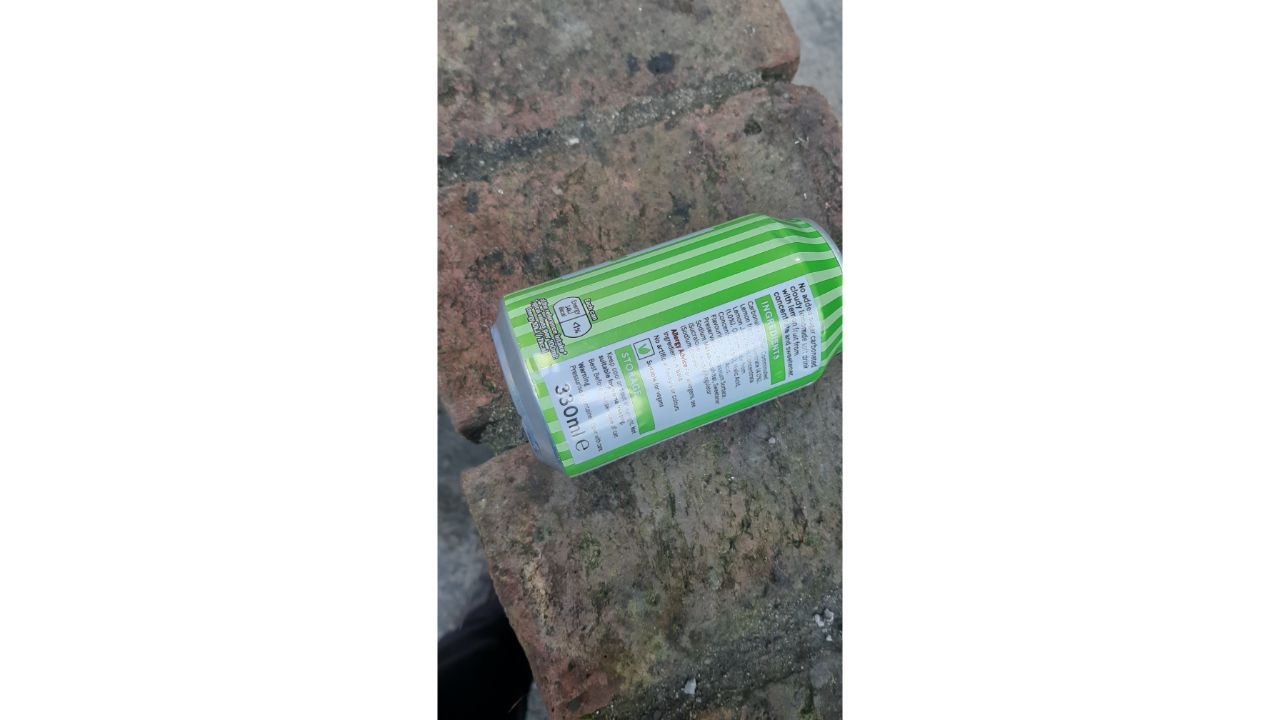Can: (488, 211, 842, 477)
